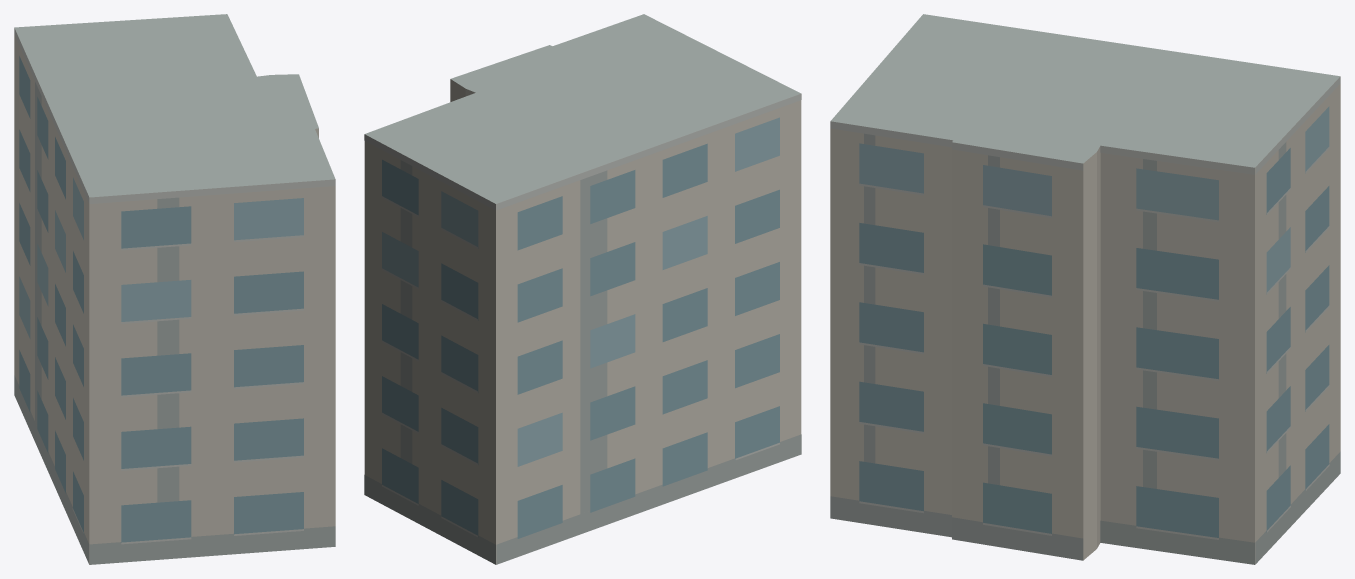
Rendered from survey-upis-32851874.glb.
The picture shows the model from 3 angles, left to right: view 1: azimuth 30°, elevation 25°; view 2: azimuth 150°, elevation 25°; view 3: azimuth 270°, elevation 25°; orthographic projection. The views are drawn at different scales.
Parts seen in each view (by area): view 1: survey-upis-32851874.tmp; view 2: survey-upis-32851874.tmp; view 3: survey-upis-32851874.tmp.
Part boxes in pixels (<box>): survey-upis-32851874.tmp: <box>14,14,335,564</box>; survey-upis-32851874.tmp: <box>364,14,801,564</box>; survey-upis-32851874.tmp: <box>830,14,1340,564</box>.
Size of the model in its own units: 11.22 by 13.5 by 15.73.
